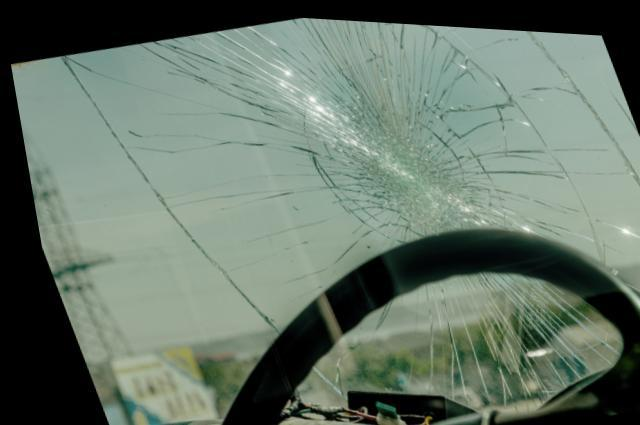glass shatter: (9, 14, 640, 425)
